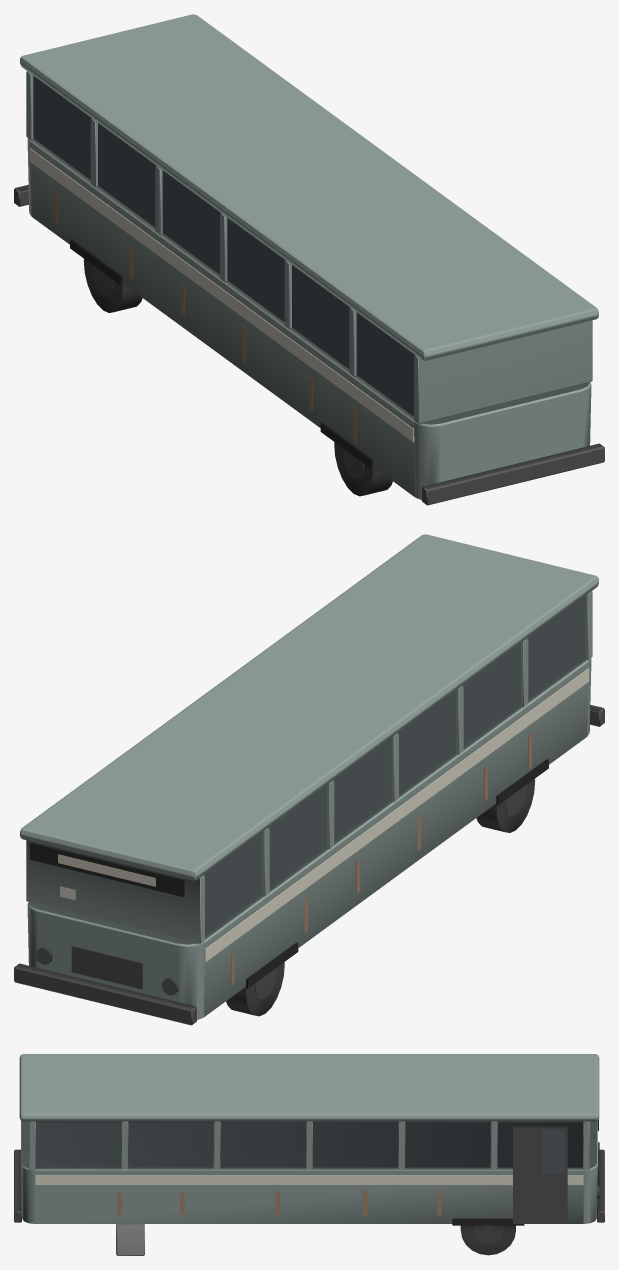
The model's file is kept_bus.glb.
The picture shows the model from 3 angles, top to bottom: view 1: azimuth 30°, elevation 25°; view 2: azimuth 150°, elevation 25°; view 3: azimuth 270°, elevation 25°; orthographic projection. The views are drawn at different scales.
Parts seen in each view (by area): view 1: static; view 2: static; view 3: static.
Boxes of the visible parts, bbox=[...] form: static: bbox=[14, 14, 604, 505]; static: bbox=[14, 534, 604, 1025]; static: bbox=[14, 1054, 604, 1255].
Size of the model in its own units: 2.57 by 2.74 by 10.24.
